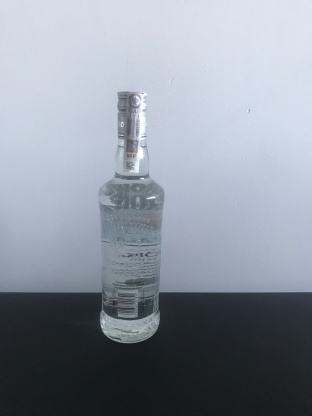nakretka: (113, 85, 151, 141)
